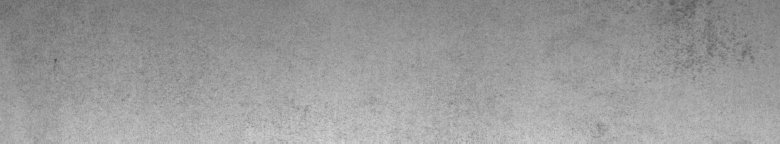ib: (664, 4, 764, 72)
